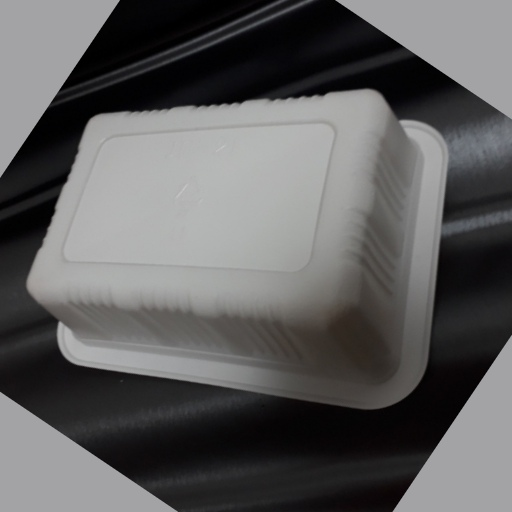Plastic_4: (26, 90, 449, 412)
